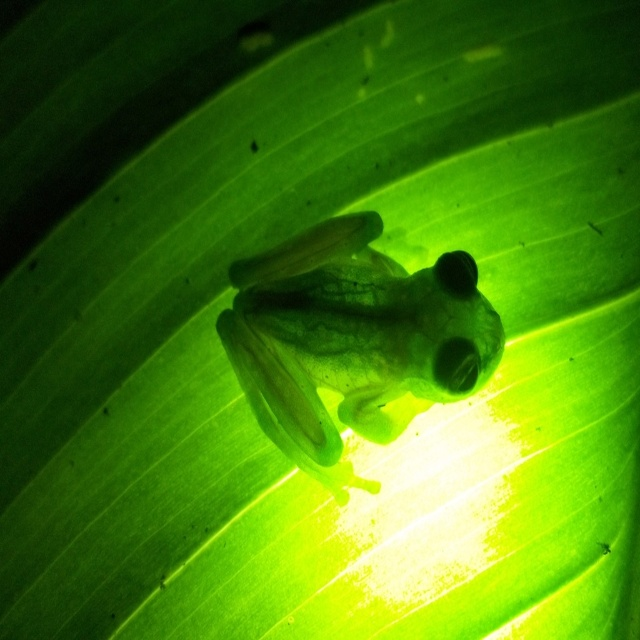Frog: (216, 211, 508, 509)
